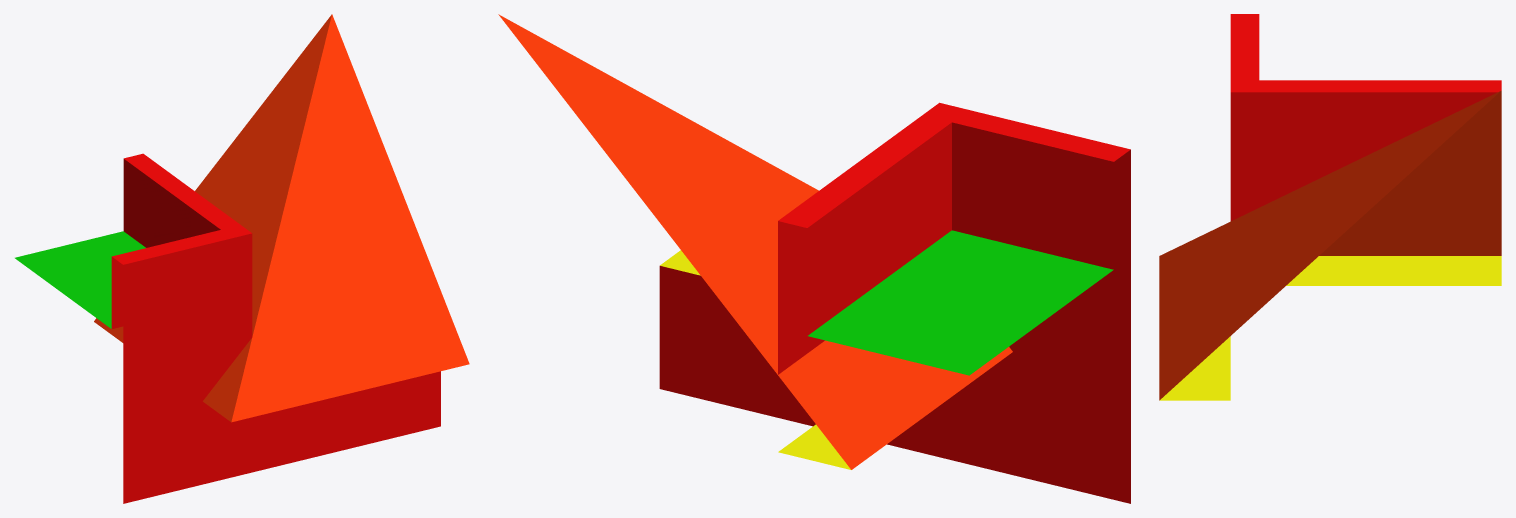
3 views of the same model, side by side, from view 1: azimuth 30°, elevation 25°; view 2: azimuth 150°, elevation 25°; view 3: azimuth 270°, elevation 25° (orthographic). The views are drawn at different scales.
Parts seen in each view (by area): view 1: None_S_E_E_E_W_E_E_E_None; view 2: None_S_E_E_E_W_E_E_E_None; view 3: None_S_E_E_E_W_E_E_E_None.
Boxes of the visible parts, x1=… form: None_S_E_E_E_W_E_E_E_None: x1=15, y1=14, x2=469, y2=503; None_S_E_E_E_W_E_E_E_None: x1=498, y1=14, x2=1130, y2=503; None_S_E_E_E_W_E_E_E_None: x1=1159, y1=14, x2=1501, y2=400.
Size of the model in its own units: 100 by 100 by 75.
